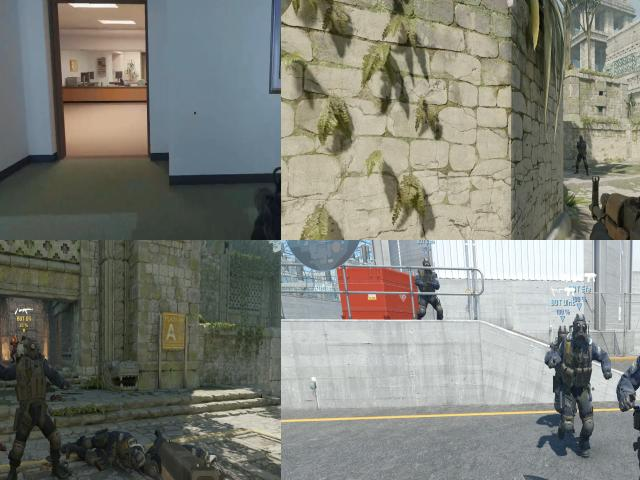CT: (560, 311, 604, 457), (16, 336, 57, 478), (413, 256, 442, 322), (548, 320, 566, 418), (574, 132, 590, 175), (10, 332, 18, 362)
CT-Head: (22, 335, 44, 366), (572, 317, 588, 339), (556, 324, 568, 342), (422, 257, 432, 271), (577, 132, 585, 146), (12, 333, 16, 339)
Dead: (61, 428, 166, 477)
